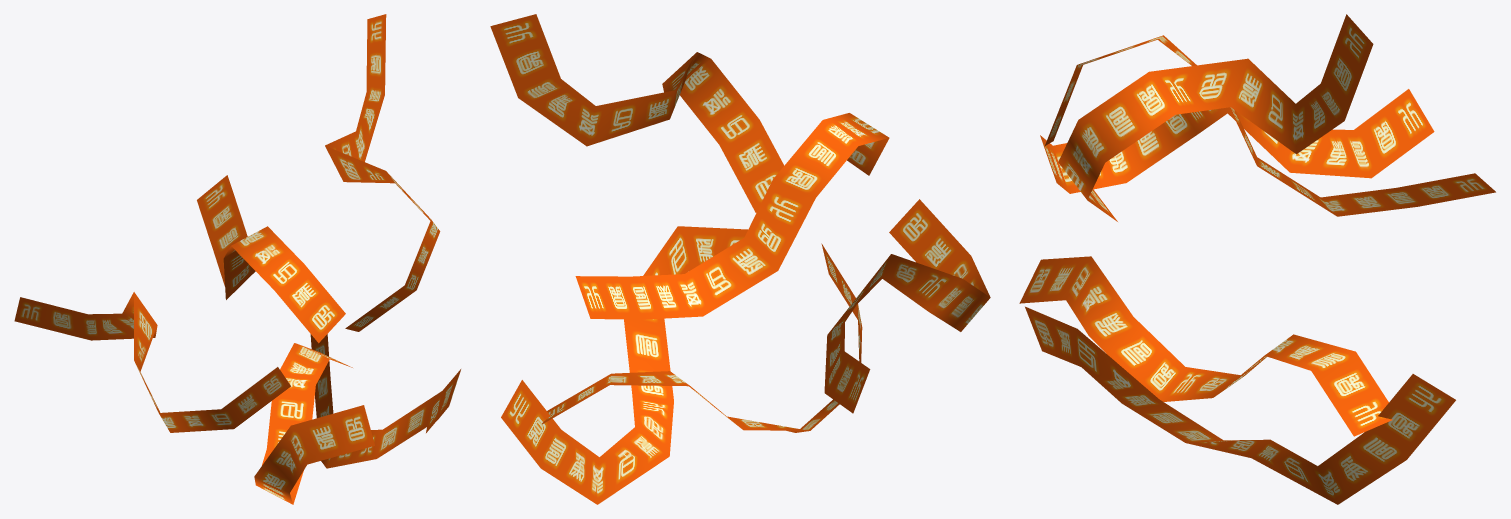
The model's file is Model_Q_XiaoYao1.FBX.
3 renders of one model, left to right at view 1: azimuth 30°, elevation 25°; view 2: azimuth 150°, elevation 25°; view 3: azimuth 270°, elevation 25°, orthographic. The views are drawn at different scales.
Visible parts, largest first — view 1: Model_Q_XiaoYao1; view 2: Model_Q_XiaoYao1; view 3: Model_Q_XiaoYao1.
Part boxes in pixels (box(x1,y1,x2,y2)): Model_Q_XiaoYao1: box(14, 14, 460, 504); Model_Q_XiaoYao1: box(490, 14, 990, 504); Model_Q_XiaoYao1: box(1019, 14, 1495, 504).
Size of the model in its own units: 6.71 by 7.76 by 6.44.
